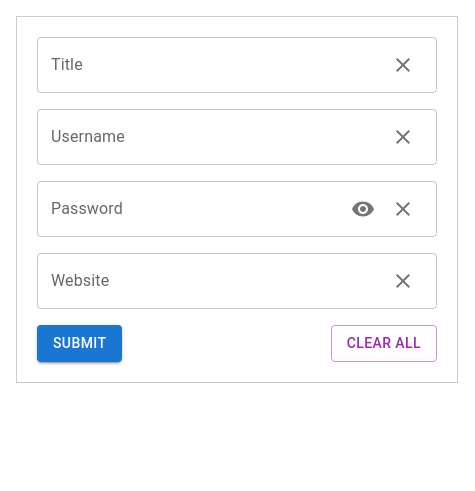
Test: AddCredentialForm › validates form inputs on submit
What coordinates should you click on to do the following:
click the button "Submit"
I would click on:
 (80, 343)
Its box is [37,325,122,362].
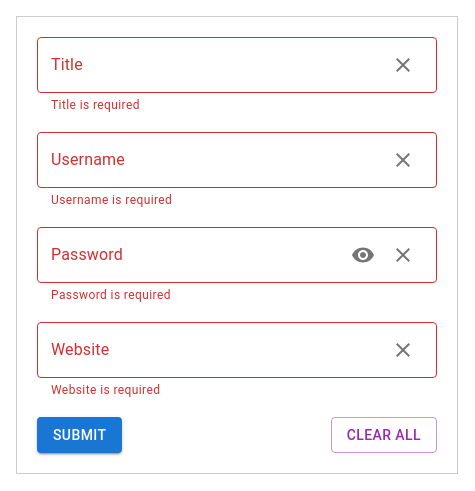
Expected: the text "Title is required" is shown, [51,98,140,112]
Expected: the text "Username is required" is shown, [51,193,172,207]
Expected: the text "Password is required" is shown, [51,288,171,302]
